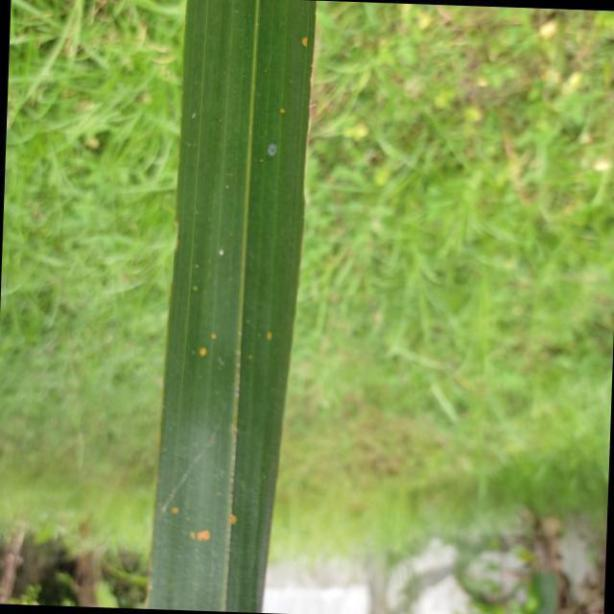Kalium: (152, 0, 318, 614)
